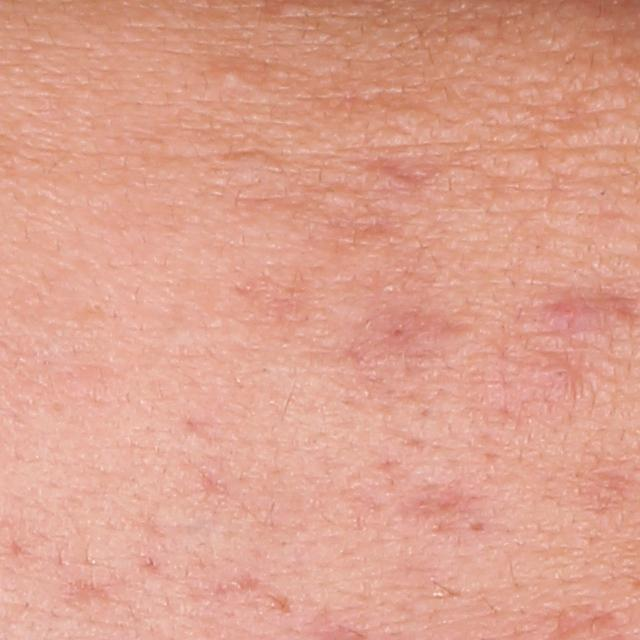comedo: (206, 56, 260, 103), (538, 360, 573, 386)
